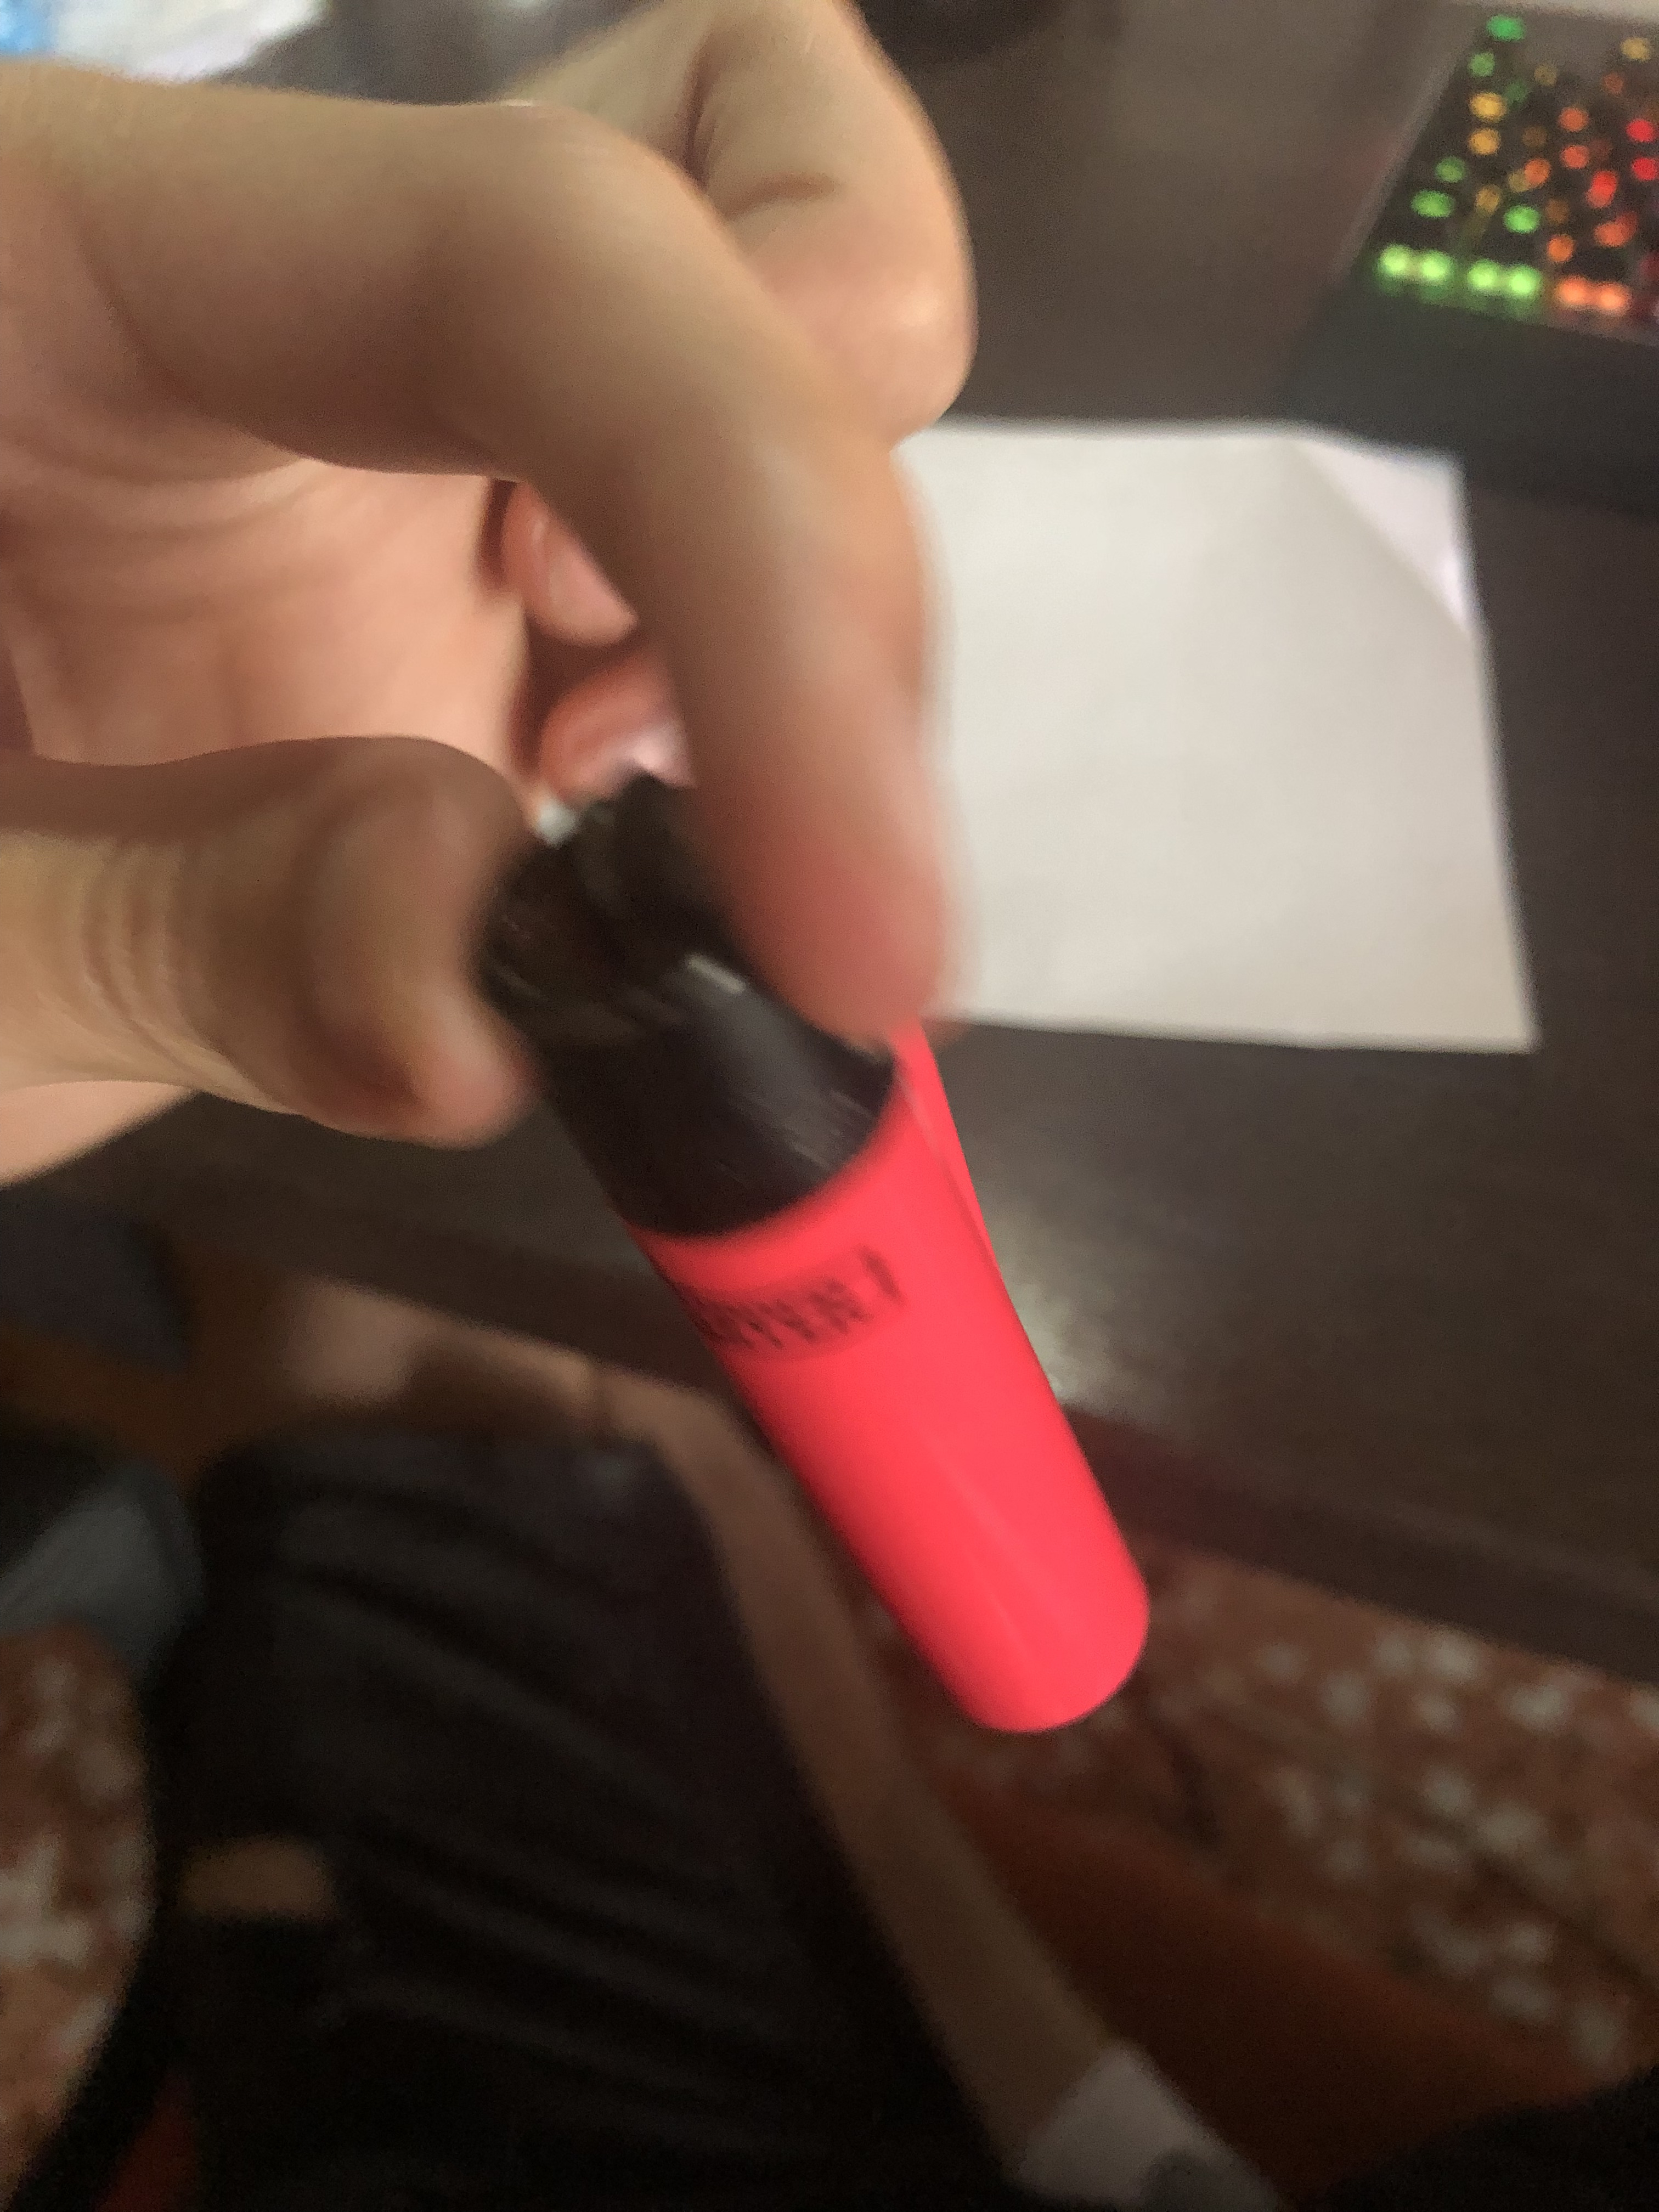Mechero: (484, 789, 1223, 1749)
